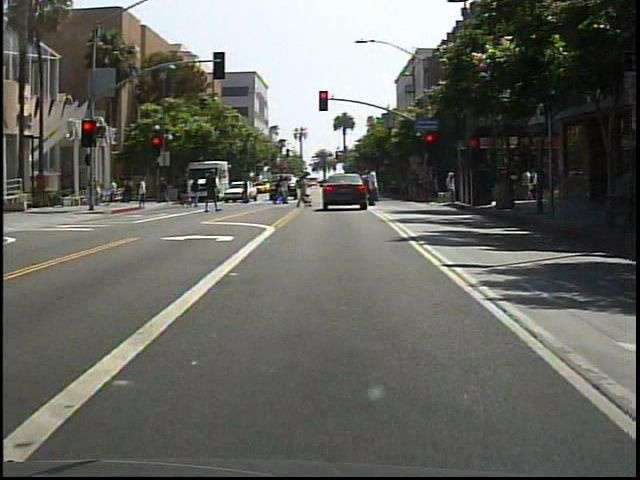person: (361, 163, 386, 211), (205, 168, 226, 216), (297, 173, 316, 212), (135, 175, 152, 212), (189, 174, 204, 211)
